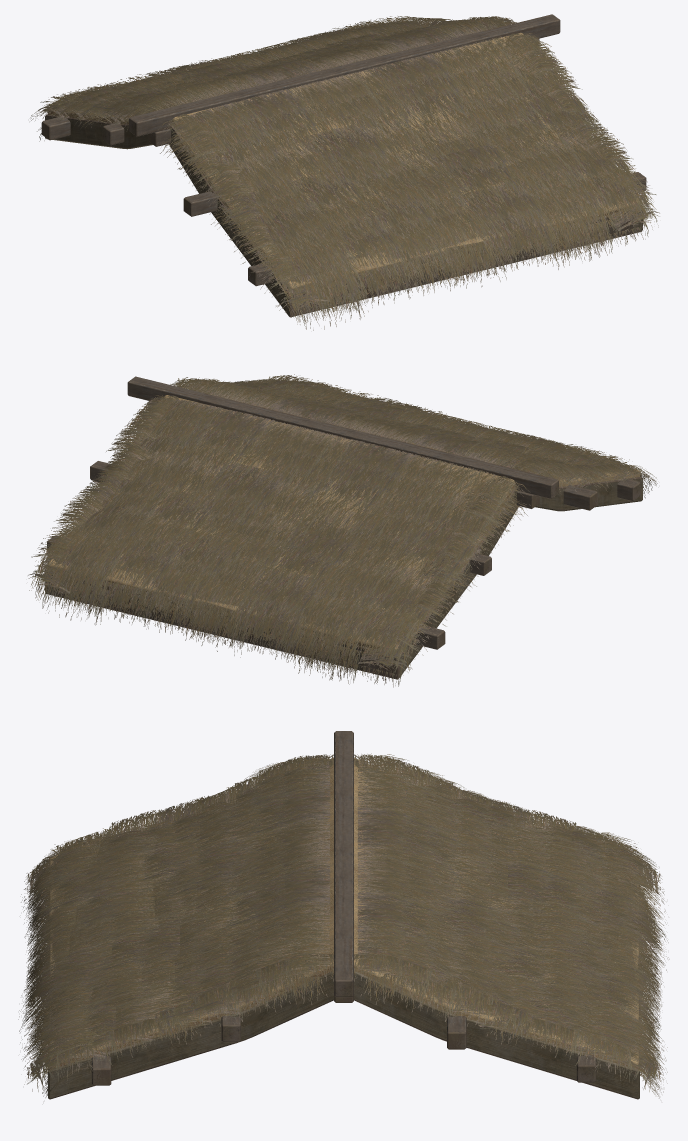
The model's file is SM_Roof_hay_12_01.fbx.
3 views of the same model, one above another, from view 1: azimuth 30°, elevation 25°; view 2: azimuth 150°, elevation 25°; view 3: azimuth 270°, elevation 25° (orthographic). The views are drawn at different scales.
Parts seen in each view (by area): view 1: SM_Roof_hay_12_01_LOD0; view 2: SM_Roof_hay_12_01_LOD0; view 3: SM_Roof_hay_12_01_LOD0.
Boxes of the visible parts, <box> form: SM_Roof_hay_12_01_LOD0: <box>30,14,659,330</box>; SM_Roof_hay_12_01_LOD0: <box>28,374,657,687</box>; SM_Roof_hay_12_01_LOD0: <box>18,731,669,1099</box>.
Bounding box in the file's own units: 900 × 1004 × 275.
5 materials, 5 textured.
